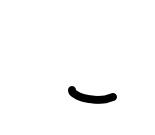minus: (67, 85, 117, 104)
